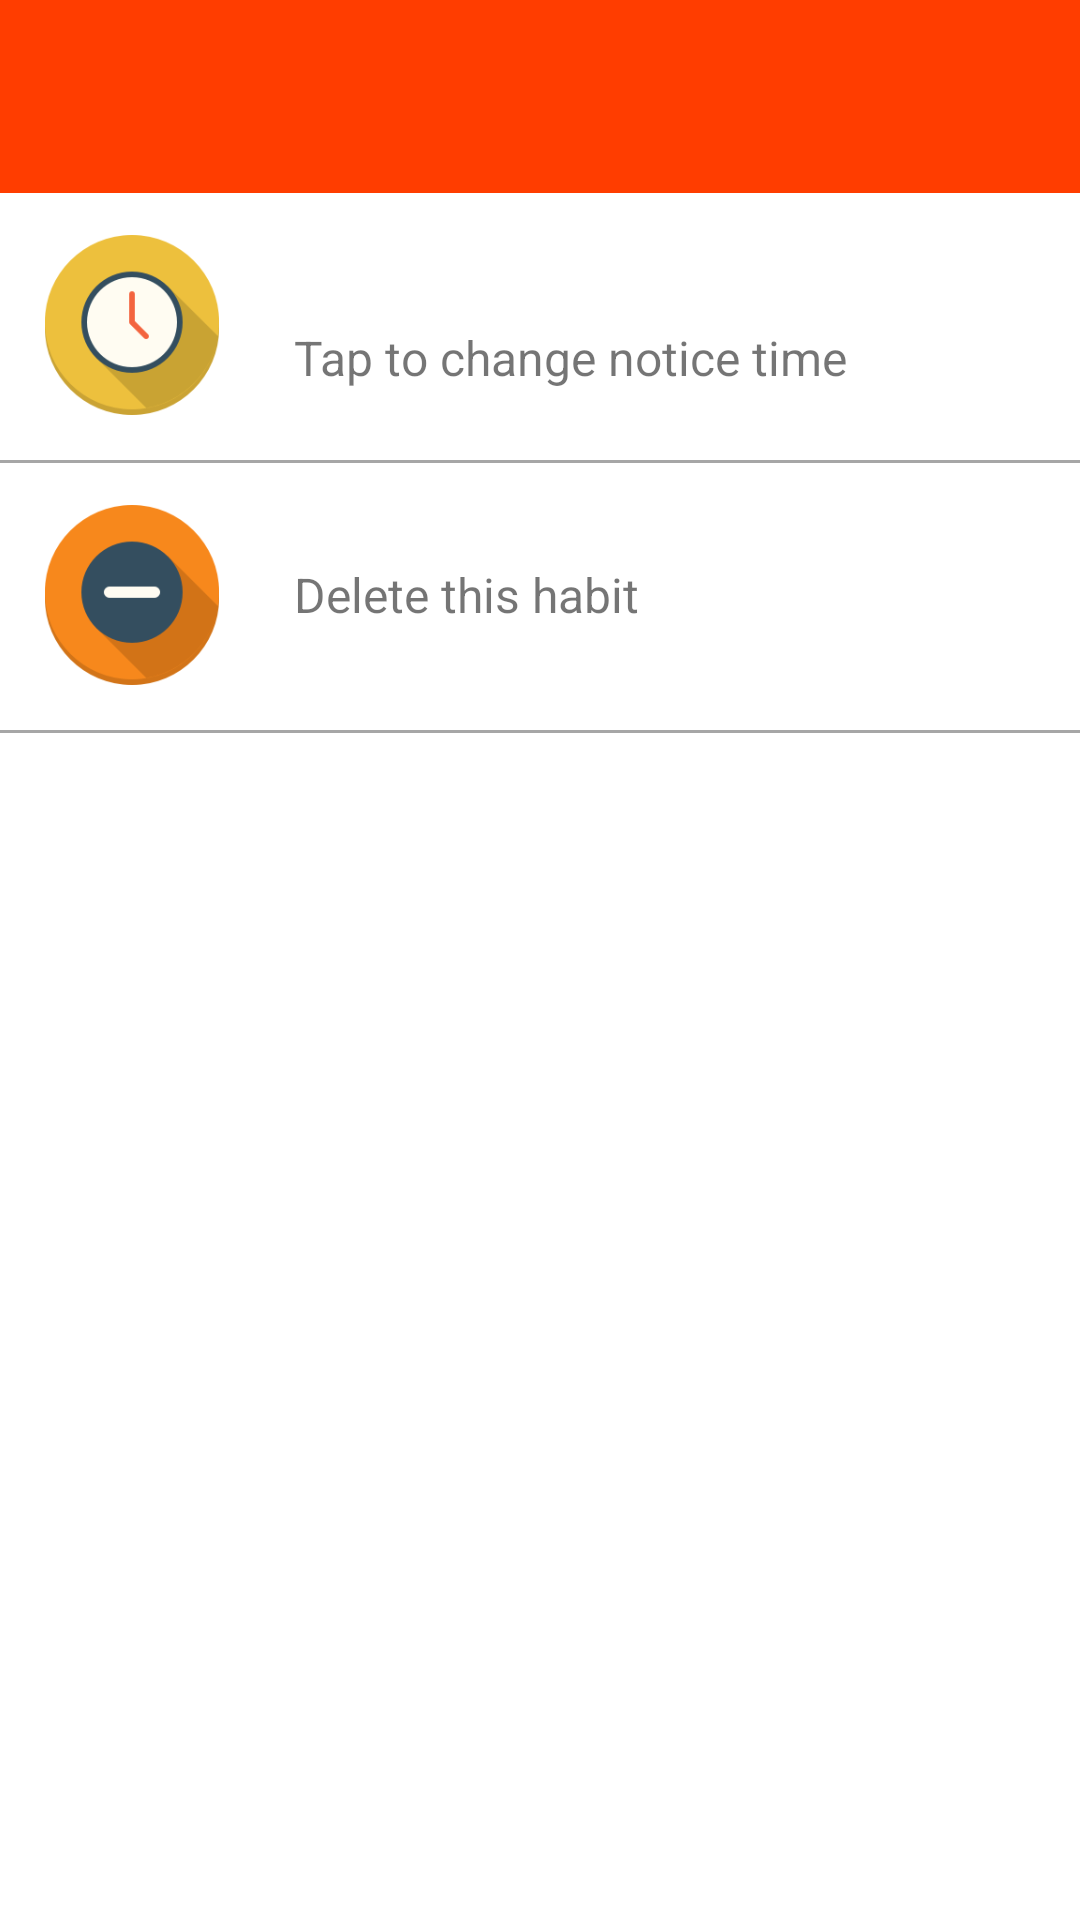

Locate icon controls on the screen. Image size 1080px x 1920px, boxes as (x1, y1, x2, y2).
clock: (45, 235, 219, 415)
minus: (45, 505, 219, 685)
